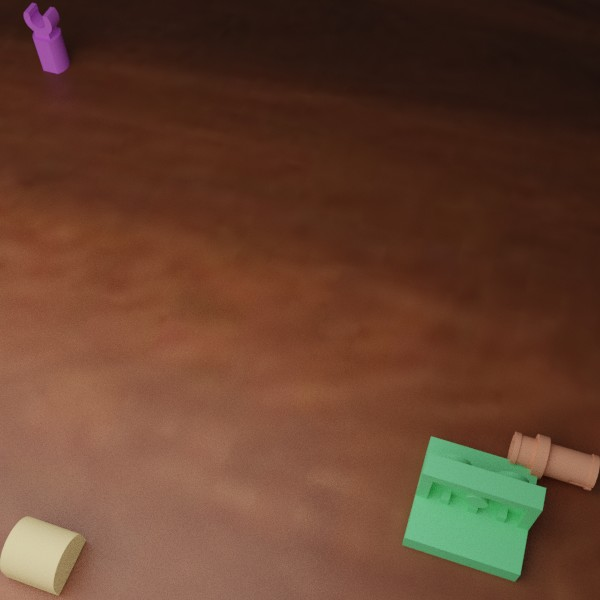lego: (402, 436, 546, 581), (0, 516, 86, 595), (506, 431, 599, 490), (23, 2, 69, 73)
